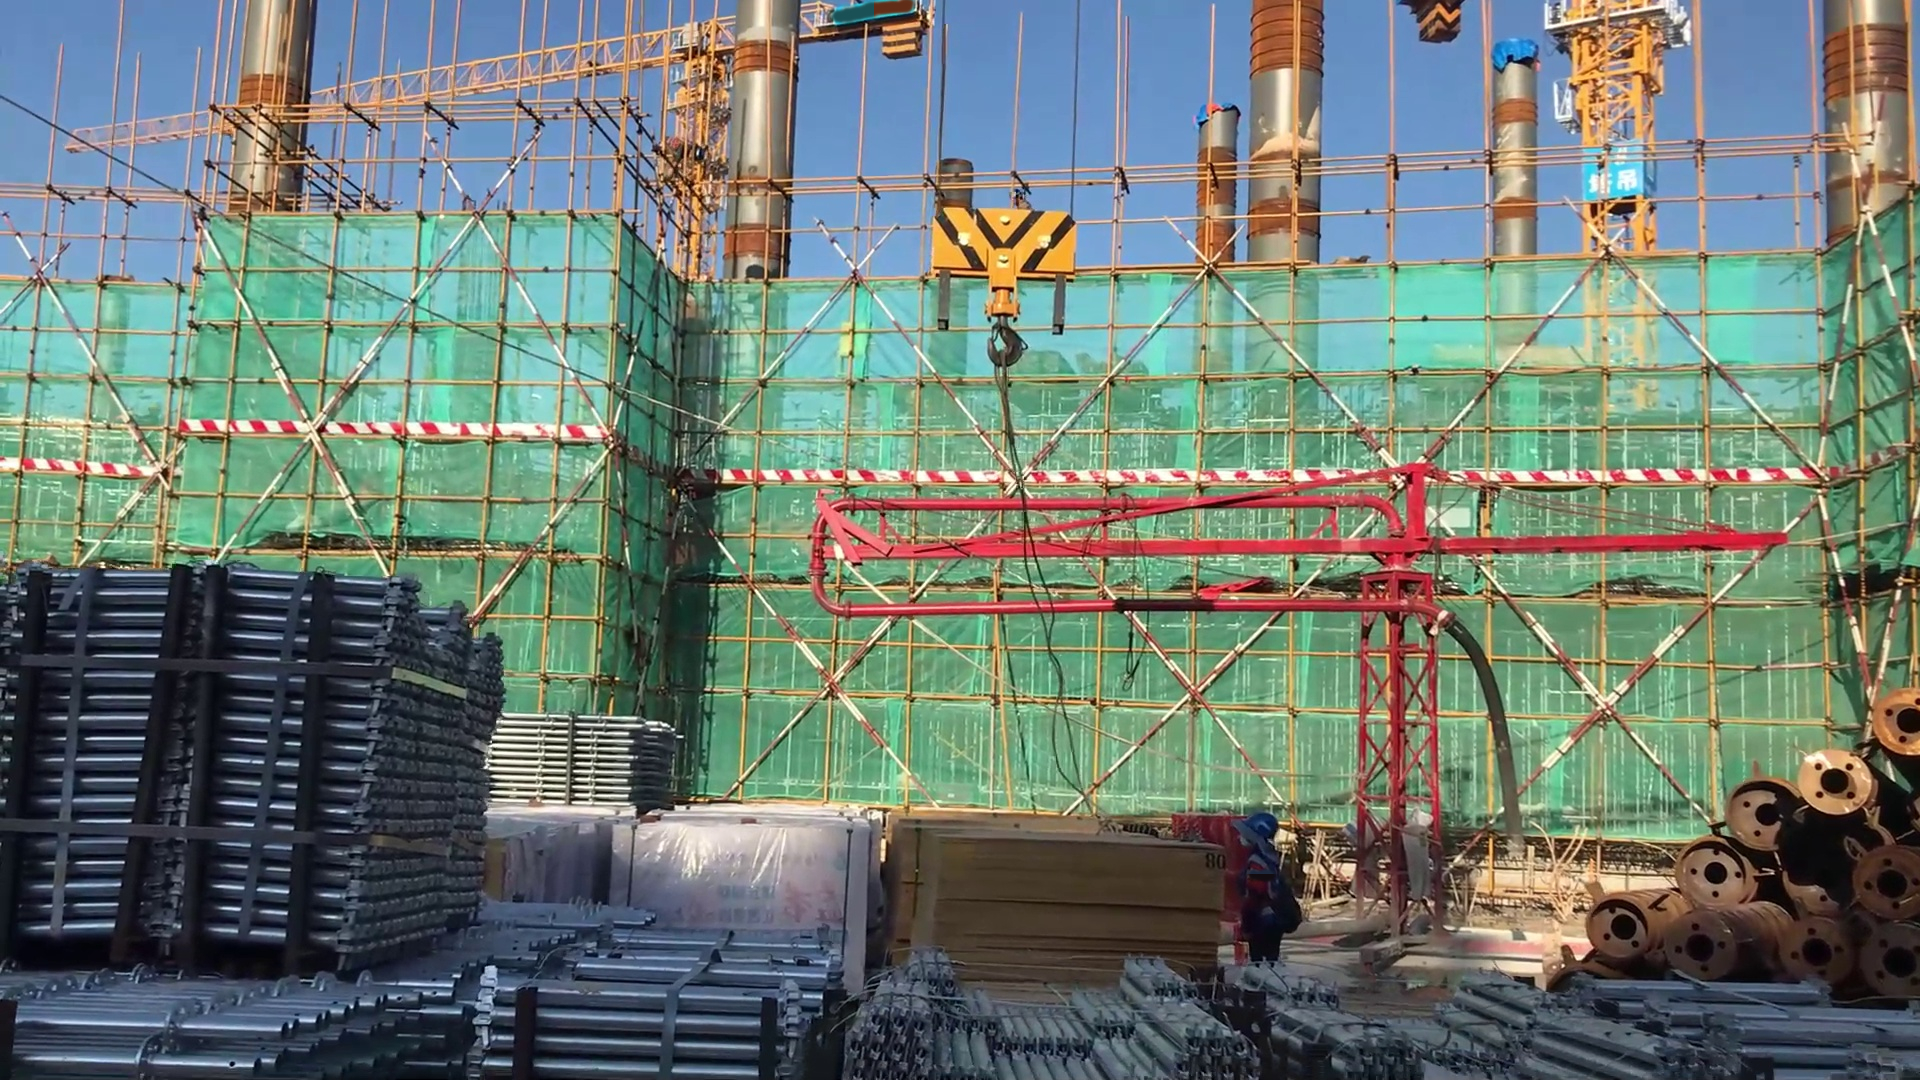board: (880, 815, 1233, 1001)
helmet: (1242, 802, 1282, 846)
hook: (925, 196, 1093, 401)
person: (1228, 810, 1306, 976)
scaffold: (1, 542, 529, 956), (1, 895, 640, 1079), (1266, 973, 1920, 1078), (495, 920, 855, 1080), (848, 937, 1248, 1074), (470, 705, 698, 814)
slogan: (1590, 149, 1650, 216)
vest: (1236, 851, 1299, 958)
